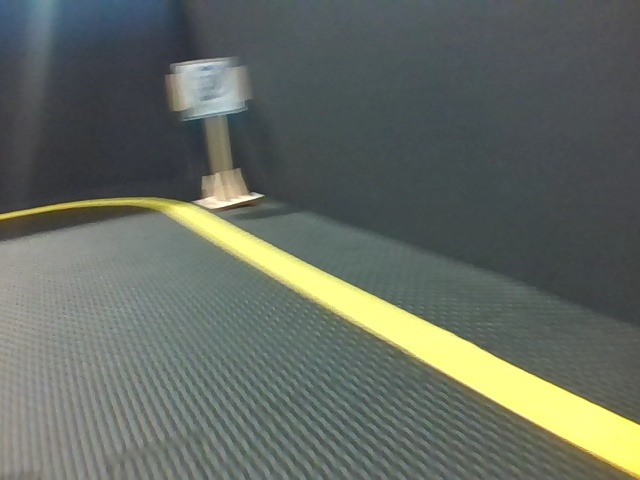no30: (175, 64, 244, 116)
